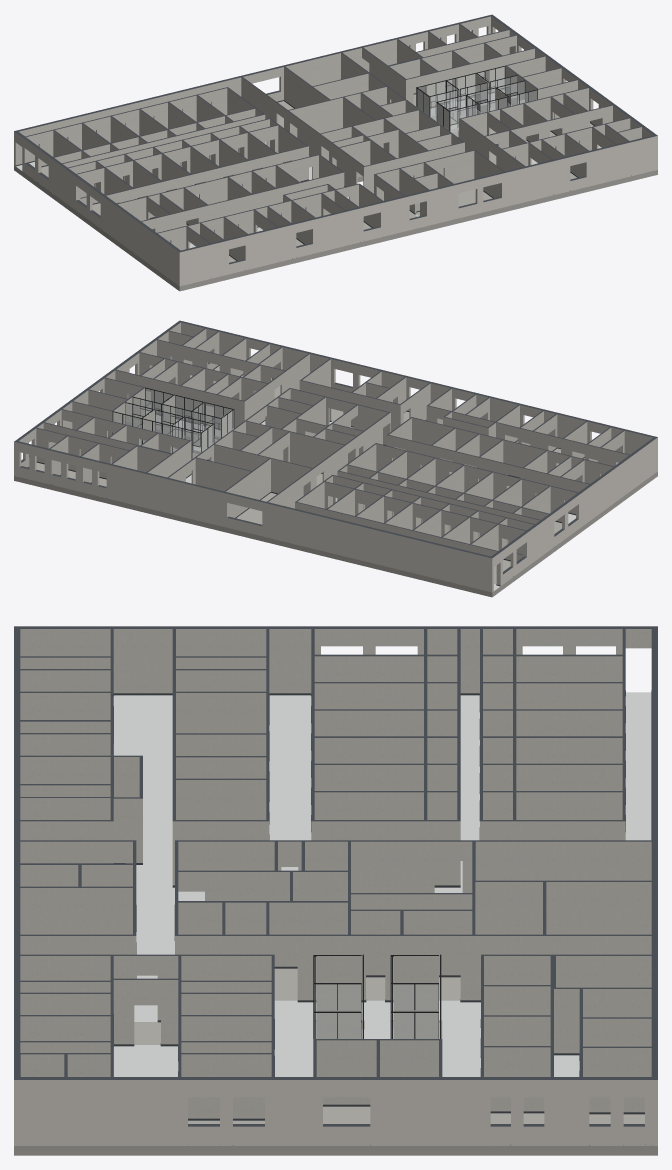
Rendered from 16_n2_estructura.glb.
3 views of the same model, one above another, from view 1: azimuth 30°, elevation 25°; view 2: azimuth 150°, elevation 25°; view 3: azimuth 270°, elevation 25° (orthographic). The views are drawn at different scales.
Parts seen in each view (by area): view 1: Muros N2, Losa N2, Piso de pasillos N2; view 2: Muros N2, Losa N2, Piso de pasillos N2; view 3: Muros N2, Piso de pasillos N2, Losa N2, Zoclo N2.
Boxes of the visible parts, bbox=[...] form: Muros N2: bbox=[14, 14, 657, 286]; Losa N2: bbox=[14, 78, 657, 291]; Piso de pasillos N2: bbox=[16, 90, 601, 248]; Muros N2: bbox=[14, 320, 657, 592]; Losa N2: bbox=[14, 366, 657, 597]; Piso de pasillos N2: bbox=[141, 411, 575, 590]; Muros N2: bbox=[14, 626, 657, 1145]; Piso de pasillos N2: bbox=[113, 692, 651, 1076]; Losa N2: bbox=[14, 968, 657, 1155]; Zoclo N2: bbox=[113, 690, 651, 1145].
Size of the model in its own units: 50 by 3.9 by 30.
Materials: 10 (1 with a texture image).
